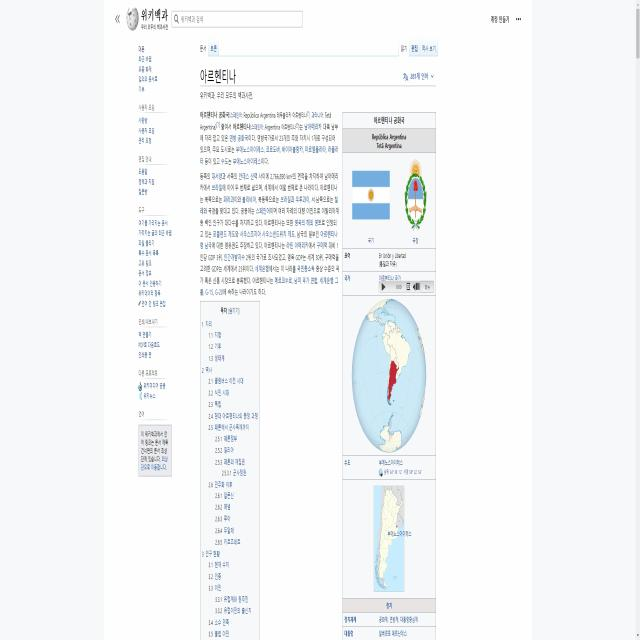menu-panel: (134, 35, 172, 484)
search: (170, 8, 304, 30)
side-panel: (340, 108, 438, 640)
